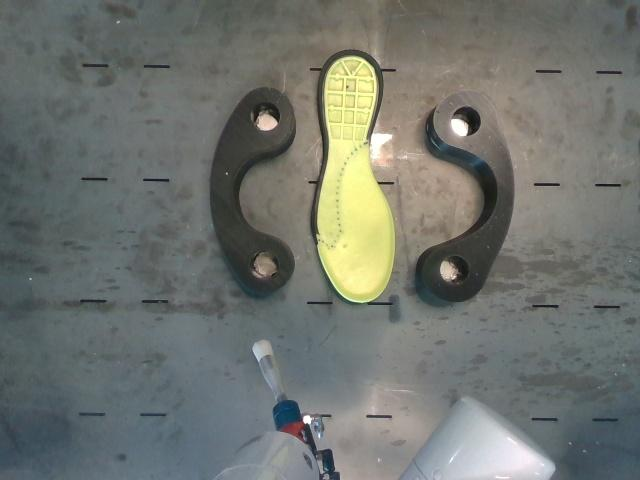shoes: (310, 49, 395, 303)
